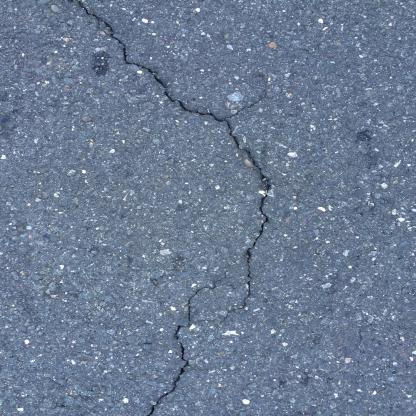Cracks: (76, 0, 285, 318), (143, 280, 224, 415)
